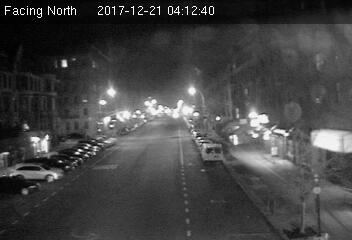truck: (201, 142, 223, 162)
